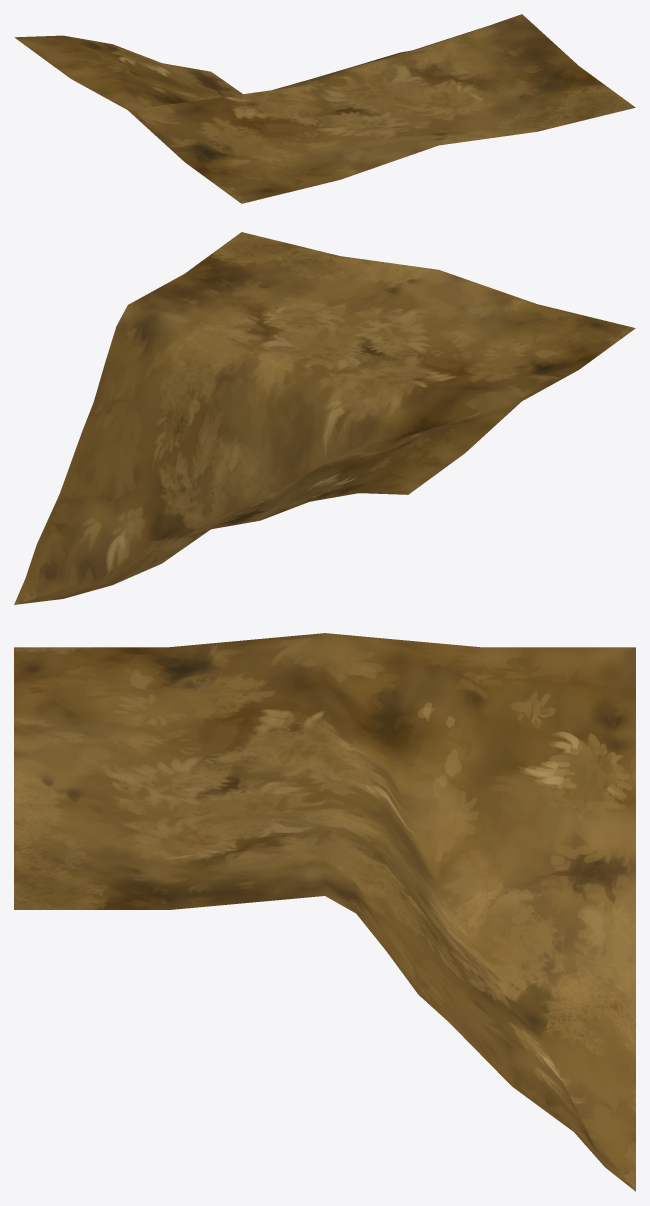
File: Slope_Level_Incline_004.fbx
3 views of the same model, one above another, from view 1: azimuth 30°, elevation 25°; view 2: azimuth 150°, elevation 25°; view 3: azimuth 270°, elevation 25° (orthographic). The views are drawn at different scales.
Parts seen in each view (by area): view 1: Slope_Level_Incline_004; view 2: Slope_Level_Incline_004; view 3: Slope_Level_Incline_004.
Boxes of the visible parts, x1,y1,x2,y2 form: Slope_Level_Incline_004: (14,14,635,203); Slope_Level_Incline_004: (14,232,635,604); Slope_Level_Incline_004: (14,633,635,1191).
Size of the model in its own units: 10 by 5.25 by 10.
1 material, 1 textured.
